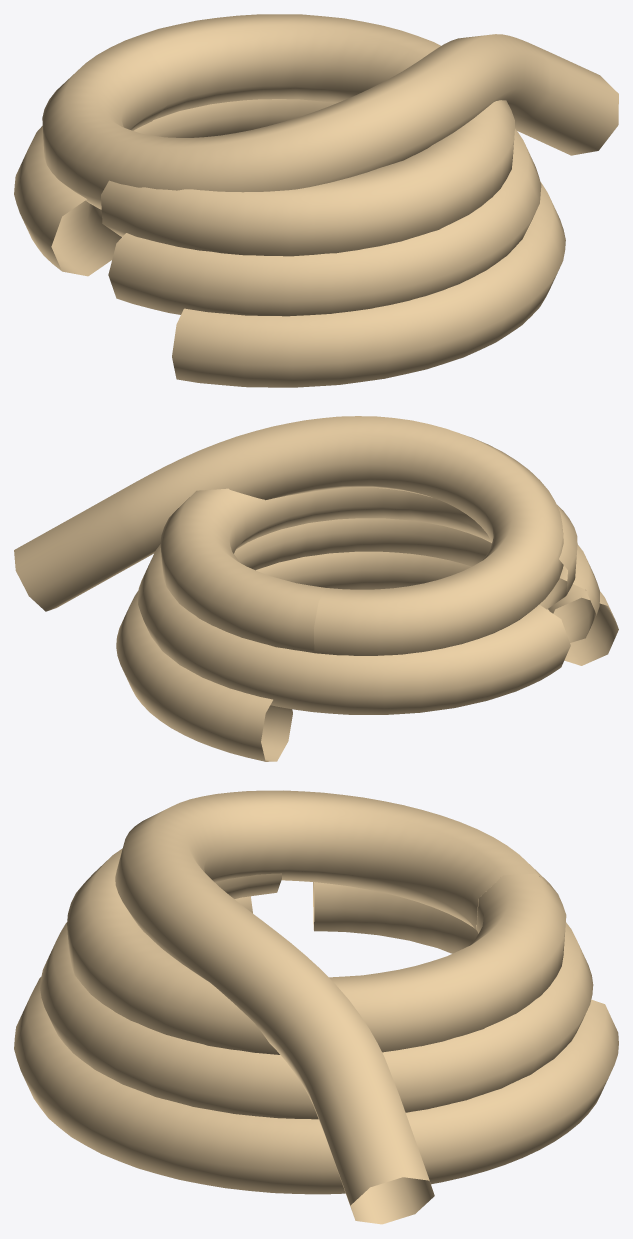
File: Rope.fbx
3 renders of one model, top to bottom at view 1: azimuth 30°, elevation 25°; view 2: azimuth 150°, elevation 25°; view 3: azimuth 270°, elevation 25°, orthographic. The views are drawn at different scales.
Parts seen in each view (by area): view 1: Rope; view 2: Rope; view 3: Rope.
Part boxes in pixels (x1,y1,x2,y2): Rope: [14, 14, 618, 387]; Rope: [14, 416, 618, 761]; Rope: [14, 790, 618, 1224].
Bounding box in the file's own units: 52.96 × 19.98 × 44.42.
